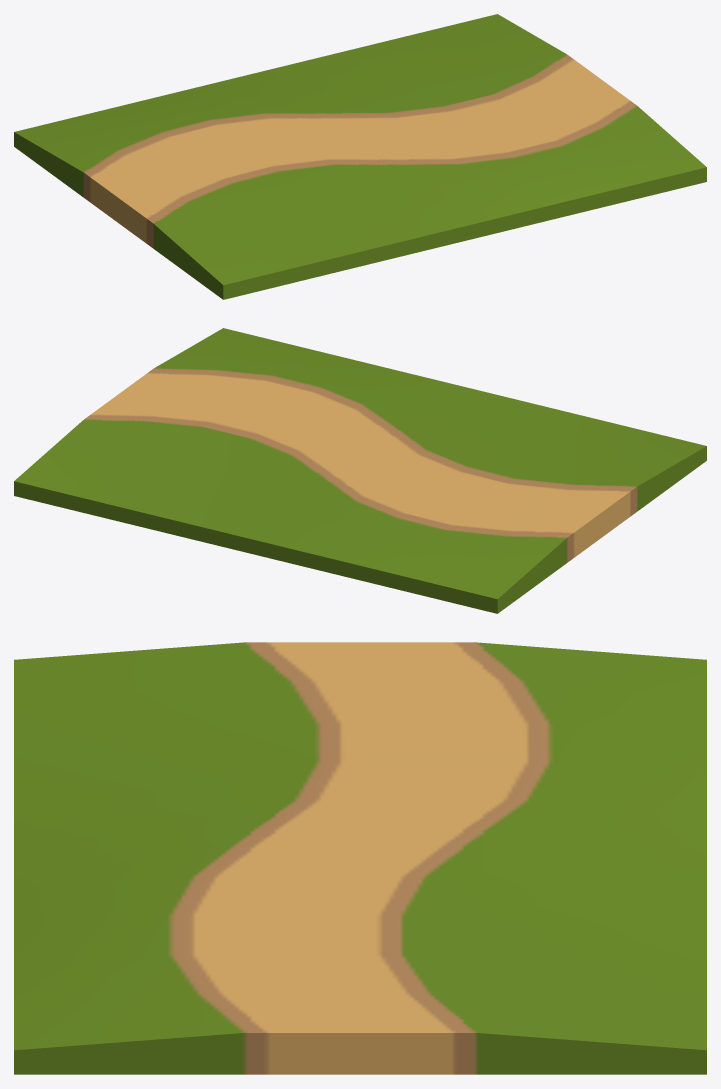
File: roadpiece.fbx
3 renders of one model, top to bottom at view 1: azimuth 30°, elevation 25°; view 2: azimuth 150°, elevation 25°; view 3: azimuth 270°, elevation 25°, orthographic. The views are drawn at different scales.
Visible parts, largest first — view 1: roadpiece; view 2: roadpiece; view 3: roadpiece.
Part boxes in pixels (bbox=[...]): roadpiece: bbox=[14, 14, 706, 299]; roadpiece: bbox=[14, 328, 706, 613]; roadpiece: bbox=[14, 642, 706, 1074].
Size of the model in its own units: 2000 by 99.7 by 1500.
Materials: 1 (1 with a texture image).
